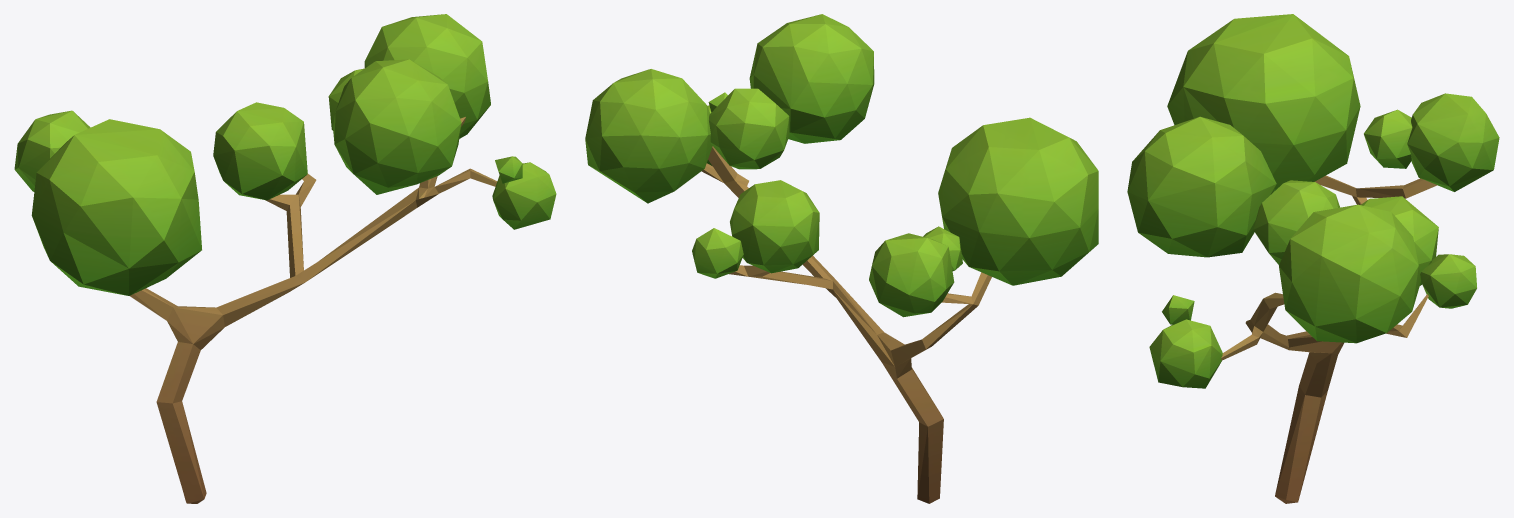
Rendered from bonsai.glb.
3 renders of one model, left to right at view 1: azimuth 30°, elevation 25°; view 2: azimuth 150°, elevation 25°; view 3: azimuth 270°, elevation 25°, orthographic. The views are drawn at different scales.
Parts seen in each view (by area): view 1: Bonsai.Tree.000__0; view 2: Bonsai.Tree.000__0; view 3: Bonsai.Tree.000__0.
Boxes of the visible parts, left/top/right/bottom form: Bonsai.Tree.000__0: left=14, top=14, right=556, bottom=503; Bonsai.Tree.000__0: left=585, top=14, right=1098, bottom=503; Bonsai.Tree.000__0: left=1127, top=14, right=1499, bottom=503.
Size of the model in its own units: 2.94 by 2.52 by 1.83.
1 material, 1 textured.
